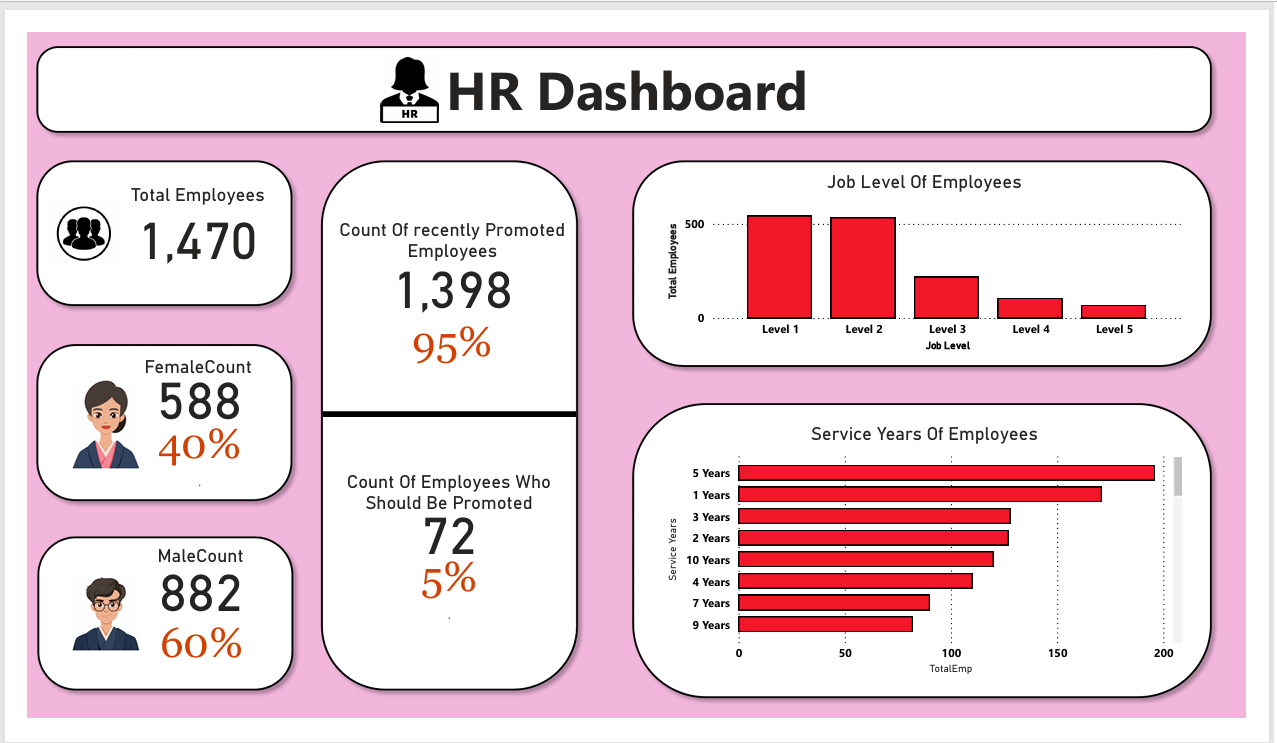

This screenshot's page, from the dashboard's own definition file:
{"tool":"powerbi","page":{"name":"1st page","canvas":[1280,720],"ordinal":0},"visuals":[{"type":"shape","box":[0,5.5,1252.8,108.4],"z":0},{"type":"textbox","box":[318.4,16.5,623,108.4],"z":1000},{"type":"image","box":[72.7,20.6,655.9,79.6],"z":2000},{"type":"shape","box":[0,124.9,286.8,171.5],"z":3000},{"type":"shape","box":[0,318.4,286.8,182.5],"z":4000},{"type":"shape","box":[1.4,520.1,286.8,179.8],"z":5000},{"type":"card","title":"Total Employees","fields":{"Values":["All Measures.TotalEmp"]},"box":[70,159.2,216.8,104.3],"z":6000},{"type":"image","box":[15.1,170.2,87.8,82.3],"z":7000},{"type":"card","title":"FemaleCount","fields":{"Values":["All Measures.FemaleCount"]},"box":[82.3,338.9,193.5,81],"z":8000},{"type":"card","fields":{"Values":["All Measures.% Female"]},"box":[126.2,395.2,108.4,87.8],"z":9000},{"type":"image","box":[41.2,356.8,82.3,108.4],"z":10000},{"type":"card","title":"MaleCount","fields":{"Values":["All Measures.MaleCount"]},"box":[108.4,537.9,146.8,86.4],"z":11000},{"type":"card","fields":{"Values":["All Measures.% Male"]},"box":[109.8,610.6,145.5,76.8],"z":12000},{"type":"image","box":[41.2,561.2,82.3,97.4],"z":13000},{"type":"shape","box":[299.1,124.9,288.2,575],"z":14000},{"type":"card","title":"Count Of recently Promoted Employees","fields":{"Values":["All Measures.Recently Promoted"]},"box":[304.6,194.9,282.7,113.9],"z":15000},{"type":"card","fields":{"Values":["All Measures.% Recently Promoted"]},"box":[389.7,296.4,112.5,71.4],"z":16000},{"type":"shape","box":[310.1,388.3,266.2,24.7],"z":17000},{"type":"card","title":"Count Of Employees Who Should Be Promoted","fields":{"Values":["All Measures.Should Be Promoted"]},"box":[325.2,459.7,234.6,101.5],"z":18000},{"type":"card","fields":{"Values":["All Measures.% Should be Promoted"]},"box":[392.5,524.2,101.5,111.1],"z":19000},{"type":"shape","box":[625.7,380.1,627.1,328],"z":20000},{"type":"barChart","title":"Service Years Of Employees","fields":{"Category":["EmployeeInformation.Service Years"],"Y":["All Measures.TotalEmp"]},"box":[666.9,410.3,550.3,269],"z":21000},{"type":"shape","box":[625.7,124.9,627.1,234.6],"z":22000},{"type":"columnChart","title":"Job Level Of Employees","fields":{"Y":["All Measures.TotalEmp"],"Category":["EmployeeInformation.JobLevelStatus"]},"box":[666.9,145.5,550.3,193.5],"z":23000}]}

Visuals, with their boxes on the page's 1280x720 design canvas (x1, y1, x2, y2). These are canvas units, not pixel positions in the 1277x743 screenshot, which may show the page scaled, cropped or inside an application window:
shape: [0,6,1253,114]
textbox: [318,16,941,125]
image: [73,21,729,100]
shape: [0,125,287,296]
shape: [0,318,287,501]
shape: [1,520,288,700]
"Total Employees" card: [70,159,287,264]
image: [15,170,103,252]
"FemaleCount" card: [82,339,276,420]
card - All Measures.% Female: [126,395,235,483]
image: [41,357,124,465]
"MaleCount" card: [108,538,255,624]
card - All Measures.% Male: [110,611,255,687]
image: [41,561,124,659]
shape: [299,125,587,700]
"Count Of recently Promoted Employees" card: [305,195,587,309]
card - All Measures.% Recently Promoted: [390,296,502,368]
shape: [310,388,576,413]
"Count Of Employees Who Should Be Promoted" card: [325,460,560,561]
card - All Measures.% Should be Promoted: [392,524,494,635]
shape: [626,380,1253,708]
"Service Years Of Employees" barChart: [667,410,1217,679]
shape: [626,125,1253,360]
"Job Level Of Employees" columnChart: [667,146,1217,339]
